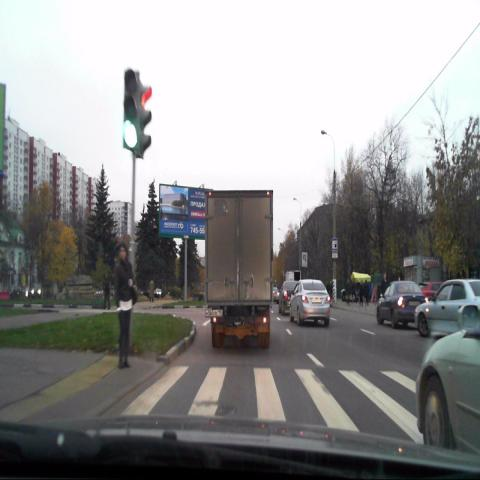7_3: (332, 237, 338, 252)
